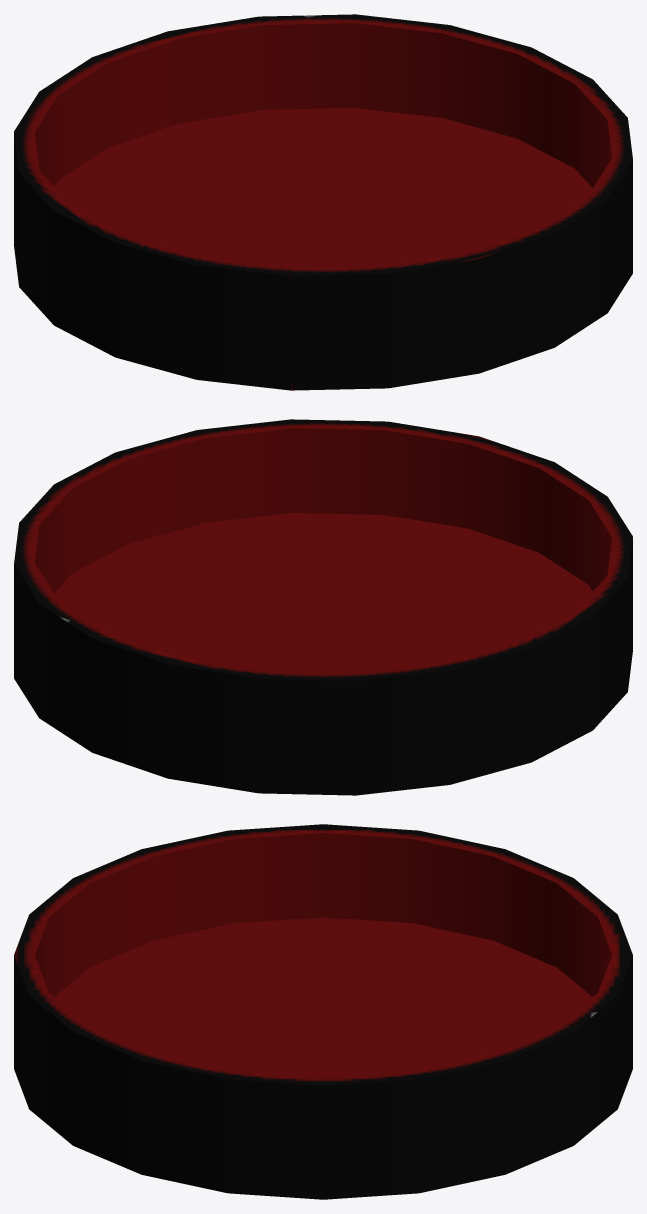
The model's file is SM_GamblingCupCap.fbx.
3 views of the same model, one above another, from view 1: azimuth 30°, elevation 25°; view 2: azimuth 150°, elevation 25°; view 3: azimuth 270°, elevation 25° (orthographic).
Visible parts, largest first — view 1: SM_DiceCupCap_mesh; view 2: SM_DiceCupCap_mesh; view 3: SM_DiceCupCap_mesh.
Part boxes in pixels (box(x1,y1,x2,y2)): SM_DiceCupCap_mesh: box(14, 14, 632, 390); SM_DiceCupCap_mesh: box(14, 419, 632, 795); SM_DiceCupCap_mesh: box(14, 824, 632, 1199).
Size of the model in its own units: 0.1798 by 0.0365 by 0.1798.
1 material, 1 textured.
